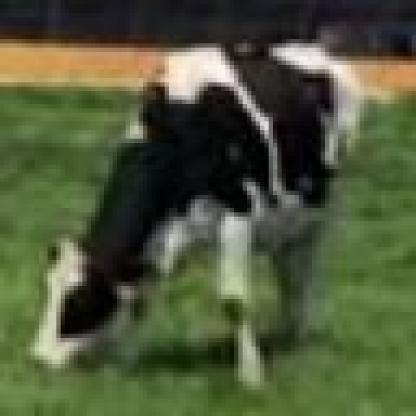cow: (30, 43, 360, 386)
